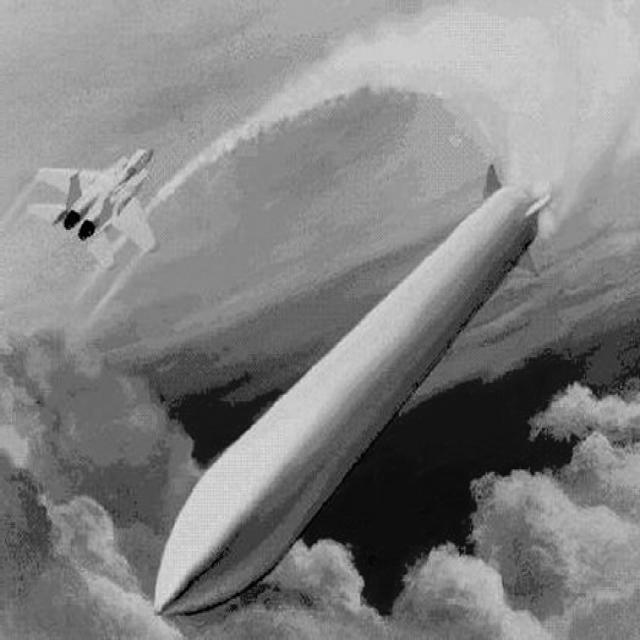missile: (148, 170, 559, 632)
